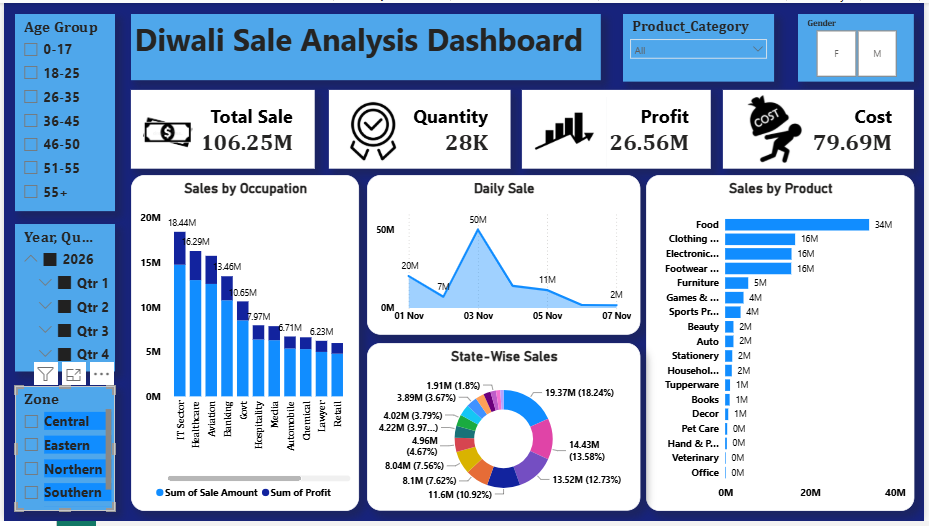

This screenshot's page, from the dashboard's own definition file:
{"tool":"powerbi","page":{"name":"Page 1","canvas":[1280,720],"ordinal":0},"visuals":[{"type":"textbox","box":[176.4,15.1,653.4,92.4],"z":0},{"type":"slicer","fields":{"Values":["Diwali Sales Data - Copy.Date.Variation.Date Hierarchy.Year","Diwali Sales Data - Copy.Date.Variation.Date Hierarchy.Quarter","Diwali Sales Data - Copy.Date.Variation.Date Hierarchy.Month","Diwali Sales Data - Copy.Date.Variation.Date Hierarchy.Day"]},"box":[15.1,307.4,139.4,204.9],"z":1000},{"type":"slicer","fields":{"Values":["Diwali Sales Data - Copy.Gender"]},"box":[1103.6,15.1,161.3,94.1],"z":2000},{"type":"slicer","fields":{"Values":["Diwali Sales Data - Copy.Age Group"]},"box":[15.1,15.1,139.4,273.8],"z":3000},{"type":"slicer","fields":{"Values":["Diwali Sales Data - Copy.Zone"]},"box":[15.1,532.5,139.4,173],"z":4000},{"type":"slicer","fields":{"Values":["Diwali Sales Data - Copy.Product_Category"]},"box":[860.1,15.1,210,94.1],"z":5000},{"type":"cardVisual","fields":{"Data":["Sum(Diwali Sales Data - Copy.Sale Amount)"]},"box":[176.4,120.9,255.3,109.2],"z":6000},{"type":"cardVisual","fields":{"Data":["Sum(Diwali Sales Data - Copy.Orders)"]},"box":[451.9,120.9,252,109.2],"z":7000},{"type":"cardVisual","fields":{"Data":["Sum(Diwali Sales Data - Copy.Profit)"]},"box":[720.6,120.9,262,109.2],"z":8000},{"type":"cardVisual","fields":{"Data":["Sum(Diwali Sales Data - Copy.Cost)"]},"box":[999.5,120.9,265.4,109.2],"z":9000},{"type":"image","box":[1017.5,127.9,105.8,95.7],"z":10000},{"type":"image","box":[451.9,127.7,115.9,95.7],"z":11000},{"type":"image","box":[176.4,127.7,100.8,102.5],"z":12000},{"type":"image","box":[720,123.7,117.6,110.9],"z":13000},{"type":"columnChart","title":"Sales by Occupation","fields":{"Category":["Diwali Sales Data - Copy.Occupation"],"Y":["Sum(Diwali Sales Data - Copy.Sale Amount)","Sum(Diwali Sales Data - Copy.Profit)"]},"box":[176.5,239.1,316.9,467],"z":14000},{"type":"areaChart","title":"Daily Sale","fields":{"Y":["Sum(Diwali Sales Data - Copy.Sale Amount)"],"Category":["Diwali Sales Data - Copy.Date.Variation.Date Hierarchy.Year","Diwali Sales Data - Copy.Date.Variation.Date Hierarchy.Quarter","Diwali Sales Data - Copy.Date.Variation.Date Hierarchy.Month","Diwali Sales Data - Copy.Date.Variation.Date Hierarchy.Day"]},"box":[503.9,238.5,379.6,221.7],"z":15000},{"type":"clusteredBarChart","title":"Sales by Product","fields":{"Y":["Sum(Diwali Sales Data - Copy.Sale Amount)"],"Category":["Diwali Sales Data - Copy.Product_Category"]},"box":[892,238.5,372.9,467],"z":16000},{"type":"donutChart","title":"State-Wise Sales","fields":{"Y":["Sum(Diwali Sales Data - Copy.Sale Amount)"],"Category":["Diwali Sales Data - Copy.State"]},"box":[503.9,472,379.6,233.5],"z":17000}]}

Visuals, with their boxes in screenshot pixels (x1, y1, x2, y2), scaled from the page's 1280x720 canvas onto the 929x526 screenshot:
textbox: rect(128, 11, 602, 79)
slicer - Diwali Sales Data - Copy.Date.Variation.Date Hierarchy.Year x Diwali Sales Data - Copy.Date.Variation.Date Hierarchy.Quarter: rect(11, 225, 112, 374)
slicer - Diwali Sales Data - Copy.Gender: rect(801, 11, 918, 80)
slicer - Diwali Sales Data - Copy.Age Group: rect(11, 11, 112, 211)
slicer - Diwali Sales Data - Copy.Zone: rect(11, 389, 112, 515)
slicer - Diwali Sales Data - Copy.Product_Category: rect(624, 11, 777, 80)
cardVisual - Sum(Diwali Sales Data - Copy.Sale Amount): rect(128, 88, 313, 168)
cardVisual - Sum(Diwali Sales Data - Copy.Orders): rect(328, 88, 511, 168)
cardVisual - Sum(Diwali Sales Data - Copy.Profit): rect(523, 88, 713, 168)
cardVisual - Sum(Diwali Sales Data - Copy.Cost): rect(725, 88, 918, 168)
image: rect(738, 93, 815, 163)
image: rect(328, 93, 412, 163)
image: rect(128, 93, 201, 168)
image: rect(523, 90, 608, 171)
"Sales by Occupation" columnChart: rect(128, 175, 358, 516)
"Daily Sale" areaChart: rect(366, 174, 641, 336)
"Sales by Product" clusteredBarChart: rect(647, 174, 918, 515)
"State-Wise Sales" donutChart: rect(366, 345, 641, 515)
